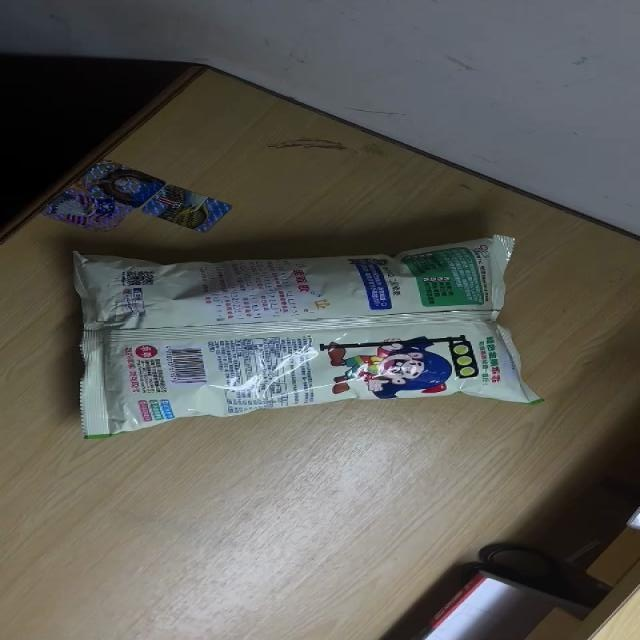Good-Luck: (61, 233, 543, 439)
